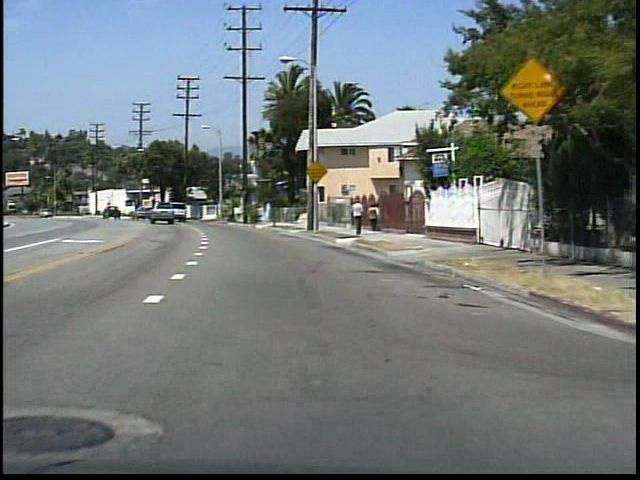person: (348, 196, 366, 239), (365, 200, 382, 234)
